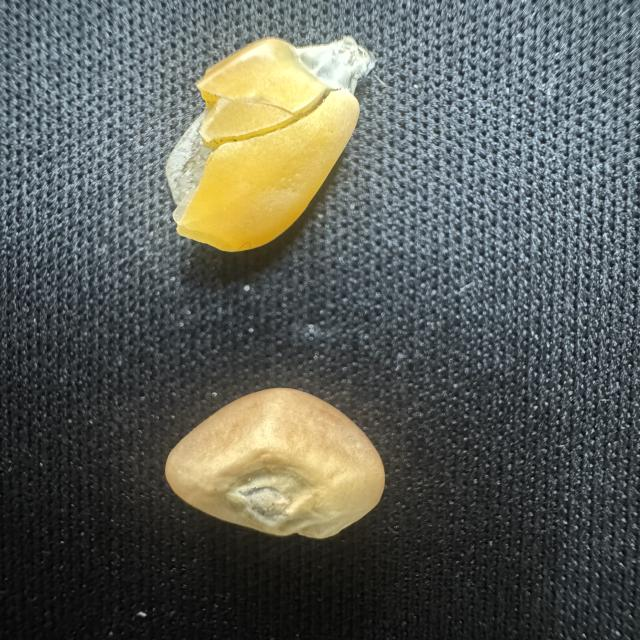Bad-Seed: (158, 32, 382, 257), (158, 383, 398, 546)
